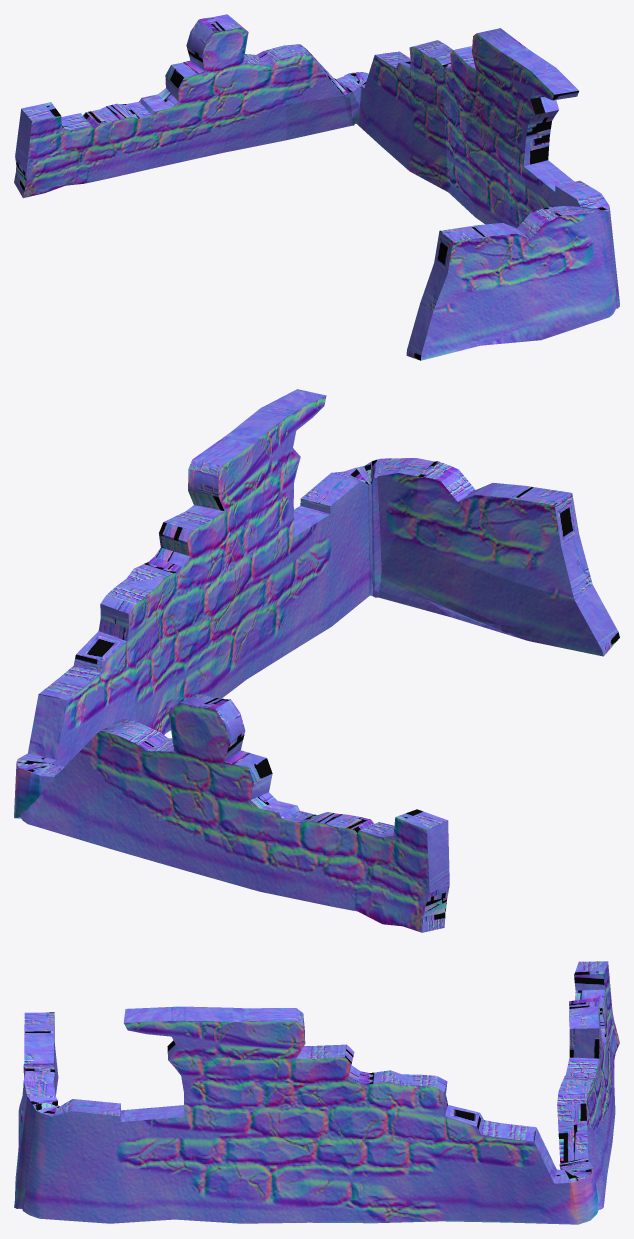
File: prob-2.fbx
3 views of the same model, one above another, from view 1: azimuth 30°, elevation 25°; view 2: azimuth 150°, elevation 25°; view 3: azimuth 270°, elevation 25° (orthographic). The views are drawn at different scales.
Visible parts, largest first — view 1: Object, Object001; view 2: Object, Object001; view 3: Object, Object001.
Boxes of the visible parts, <box> form: Object: <box>23,27,619,360</box>; Object001: <box>14,14,609,360</box>; Object: <box>14,395,603,932</box>; Object001: <box>16,389,619,932</box>; Object: <box>14,961,619,1224</box>; Object001: <box>23,961,607,1183</box>.
Bounding box in the file's own units: 210 × 113 × 296.
